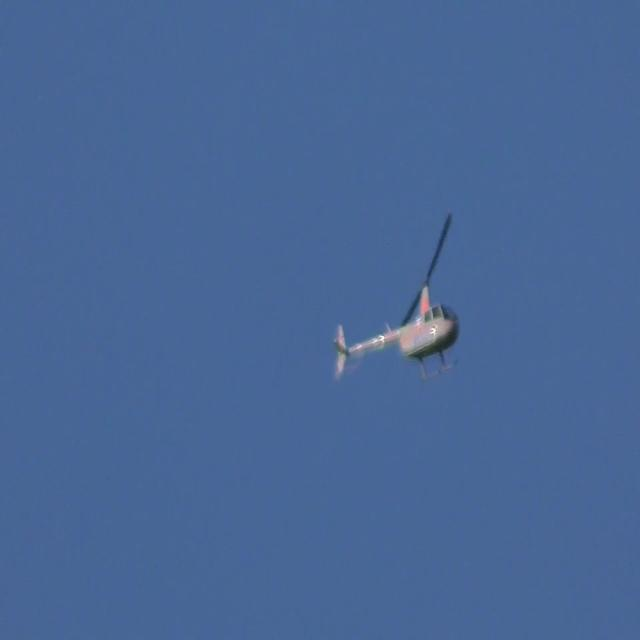CIV_HELO: (332, 280, 462, 386)
